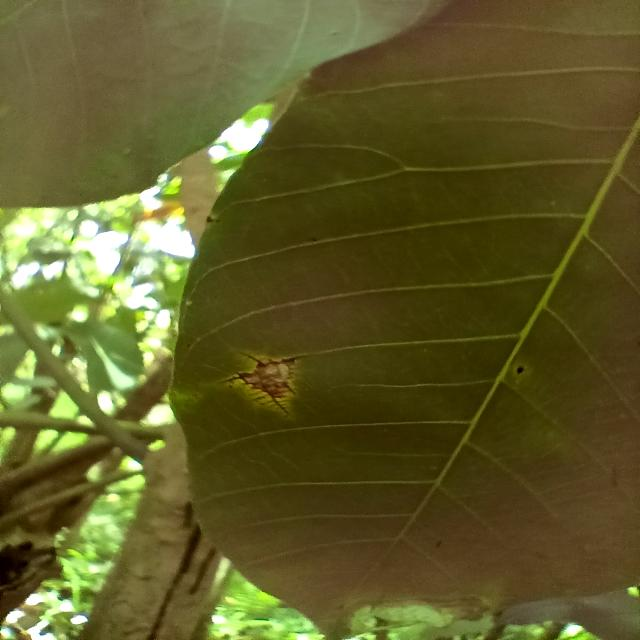Colletotrichum: (516, 367, 522, 373)
Corynespora: (220, 352, 304, 414)
